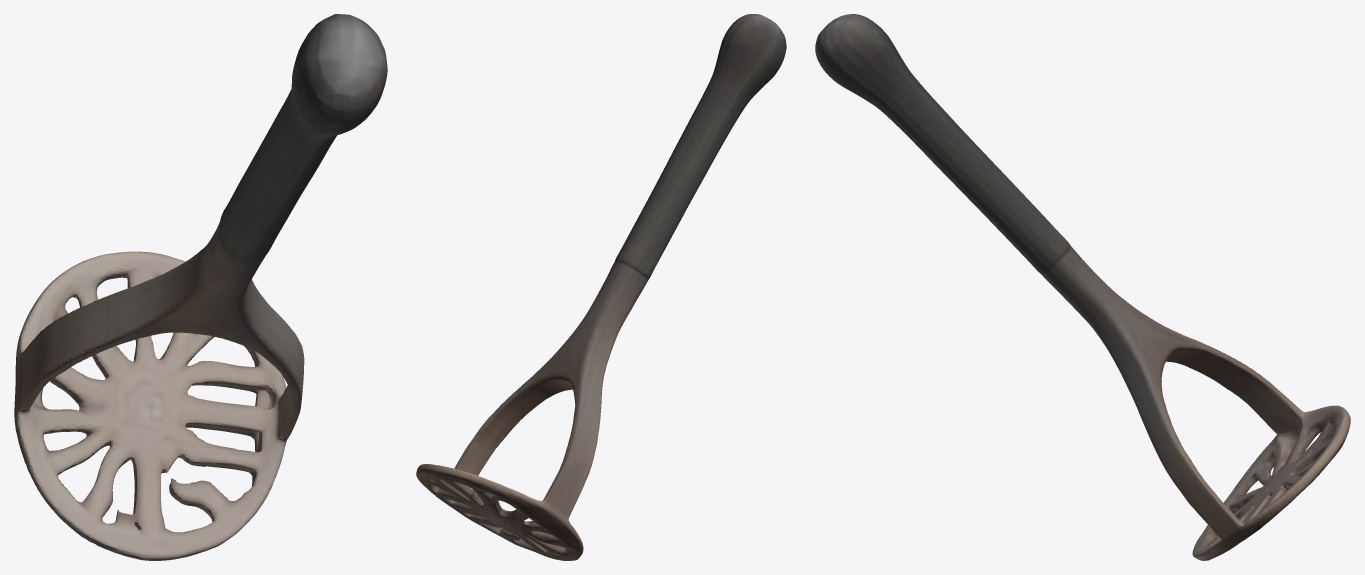
Rendered from frame_0027_source_000027_object.glb.
3 views of the same model, side by side, from view 1: azimuth 30°, elevation 25°; view 2: azimuth 150°, elevation 25°; view 3: azimuth 270°, elevation 25° (orthographic). The views are drawn at different scales.
Parts seen in each view (by area): view 1: world; view 2: world; view 3: world.
Boxes of the visible parts, x1,y1,x2,y2 form: world: [14, 14, 387, 560]; world: [416, 14, 786, 560]; world: [815, 14, 1350, 560].
Size of the model in its own units: 0.0857 by 0.2132 by 0.2062.
